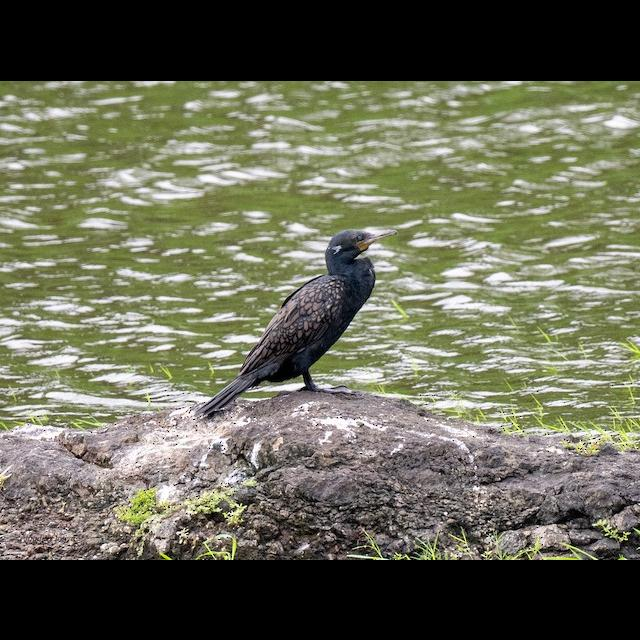cormorant: (210, 225, 400, 412)
